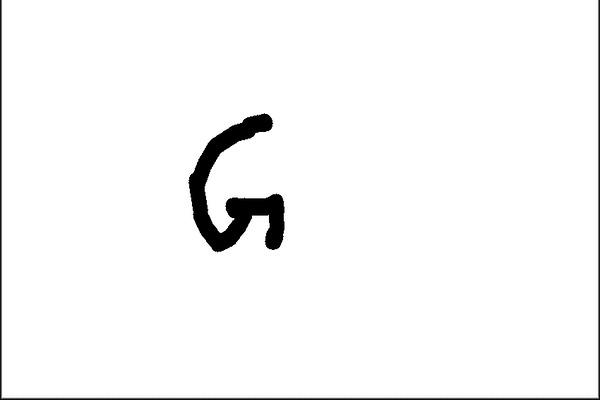G: (185, 111, 293, 254)
